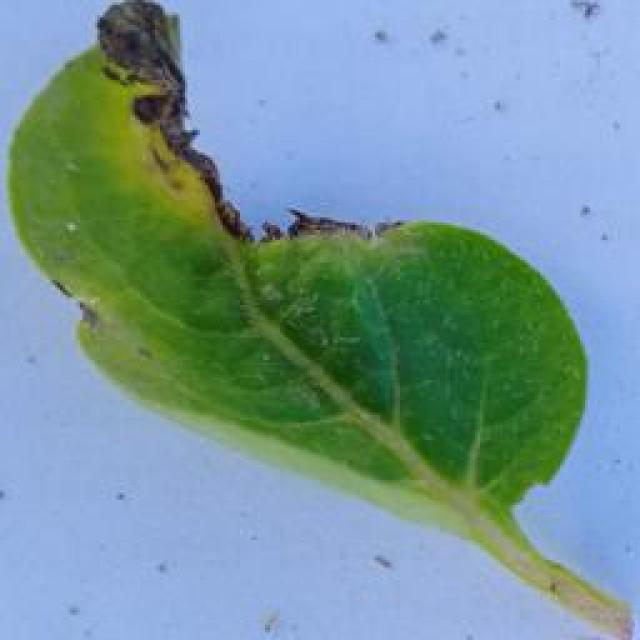Potato_Late_Blight: (0, 8, 619, 618)
